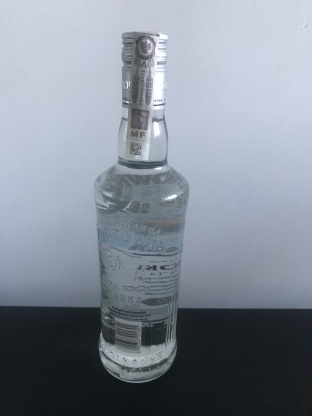nakretka: (119, 27, 169, 111)
